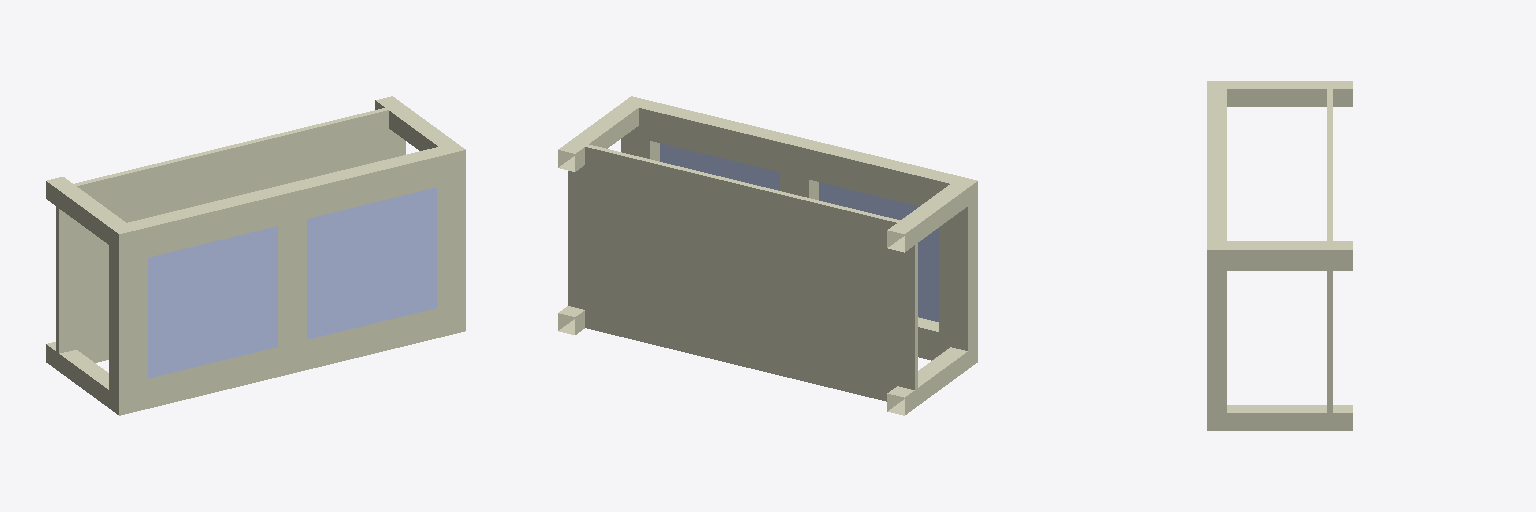
3 renders of one model, left to right at view 1: azimuth 30°, elevation 25°; view 2: azimuth 150°, elevation 25°; view 3: azimuth 270°, elevation 25°, orthographic.
Parts seen in each view (by area): view 1: ec587f[number redacted]de529cc3e5ff518065b; view 2: ec587f[number redacted]de529cc3e5ff518065b; view 3: ec587f[number redacted]de529cc3e5ff518065b.
Boxes of the visible parts, x1,y1,x2,y2 form: ec587f[number redacted]de529cc3e5ff518065b: [46, 96, 465, 415]; ec587f[number redacted]de529cc3e5ff518065b: [558, 96, 977, 415]; ec587f[number redacted]de529cc3e5ff518065b: [1207, 81, 1352, 430].
Bounding box in the file's own units: 1.4 × 0.6986 × 0.5123.